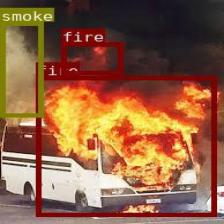fire: (35, 76, 215, 216), (61, 42, 122, 74)
smoke: (0, 22, 42, 116)
